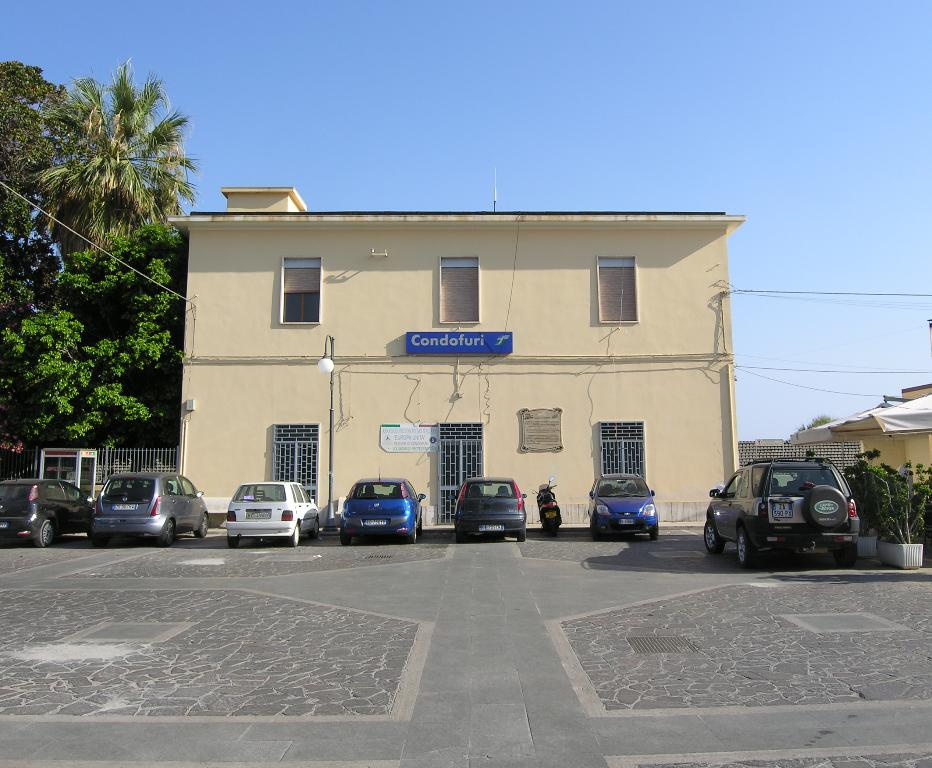Car: (0, 450, 860, 566)
